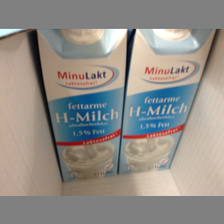milk: (118, 28, 212, 180), (37, 30, 121, 183)
